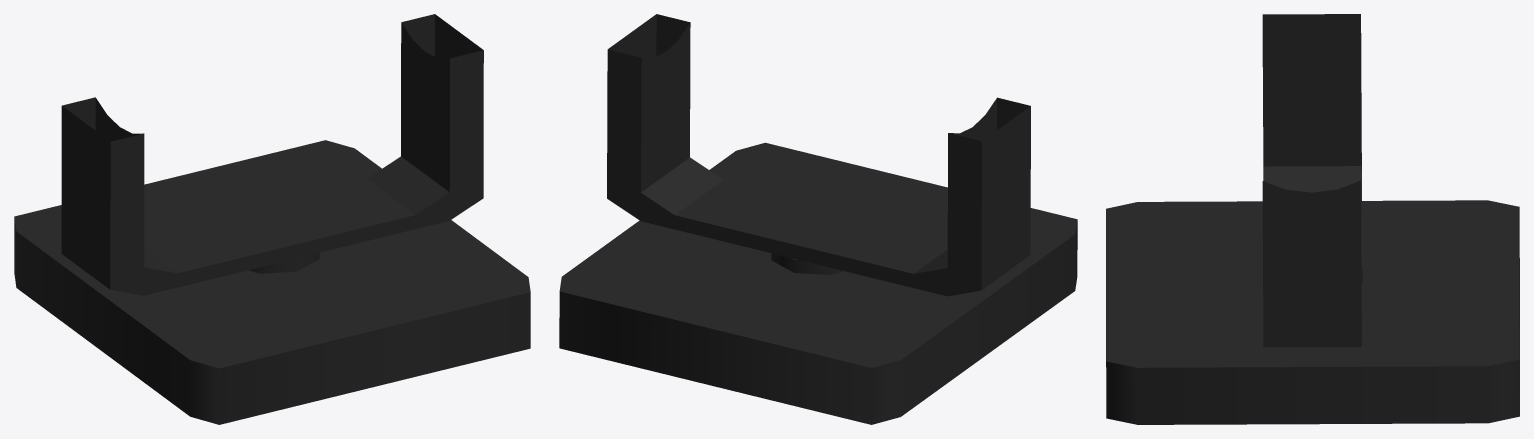
Rendered from Base_Camera02.fbx.
3 renders of one model, left to right at view 1: azimuth 30°, elevation 25°; view 2: azimuth 150°, elevation 25°; view 3: azimuth 270°, elevation 25°, orthographic.
Parts seen in each view (by area): view 1: Base_Camera02; view 2: Base_Camera02; view 3: Base_Camera02.
Boxes of the visible parts, bbox=[...] form: Base_Camera02: bbox=[14, 14, 530, 424]; Base_Camera02: bbox=[559, 14, 1077, 424]; Base_Camera02: bbox=[1106, 14, 1519, 424].
Size of the model in its own units: 0.552 by 0.3321 by 0.5254.
1 material, 1 textured.
